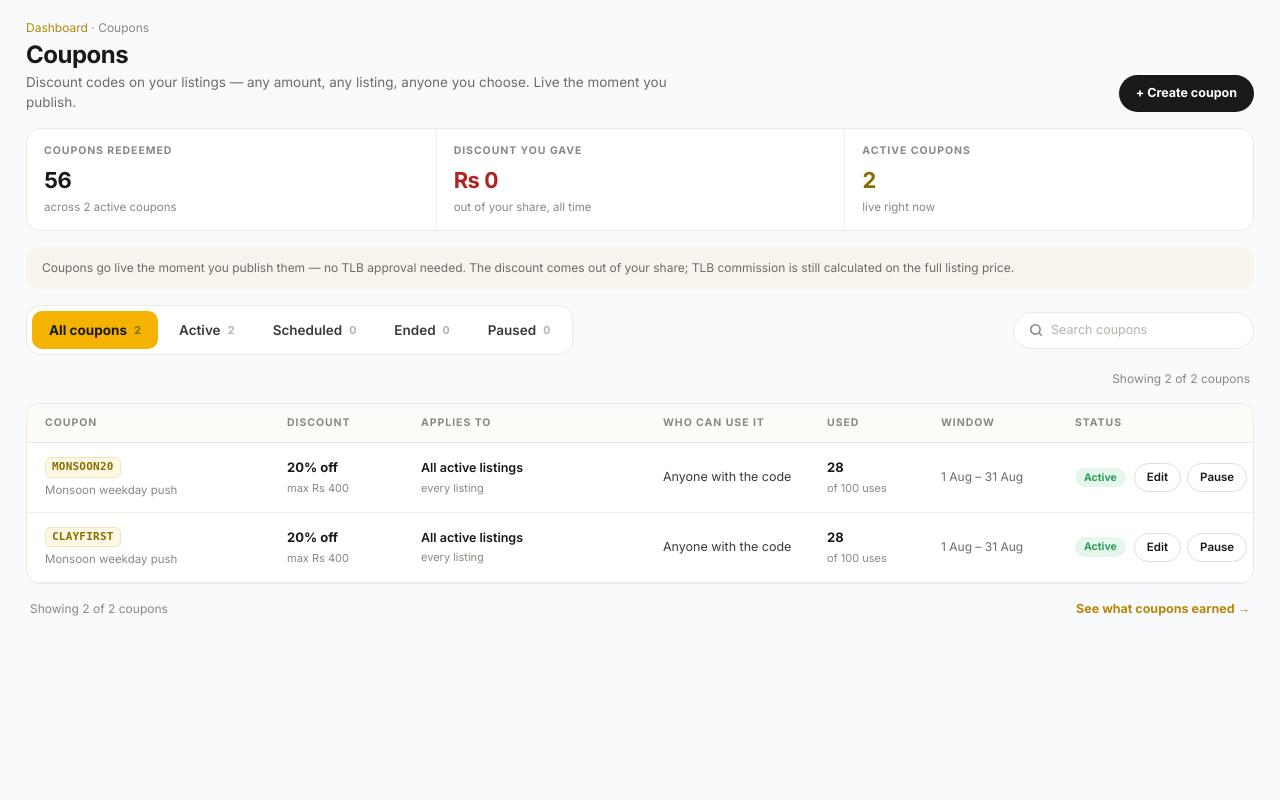
Scenario: Coupons — list display › filters coupons by search
Check: the text "MONSOON20" is shown, box [45, 457, 121, 478]
Type "CLAYFIRST" into the field with placeholder "Search coupons". click: (1144, 330)
box: [1051, 321, 1238, 340]
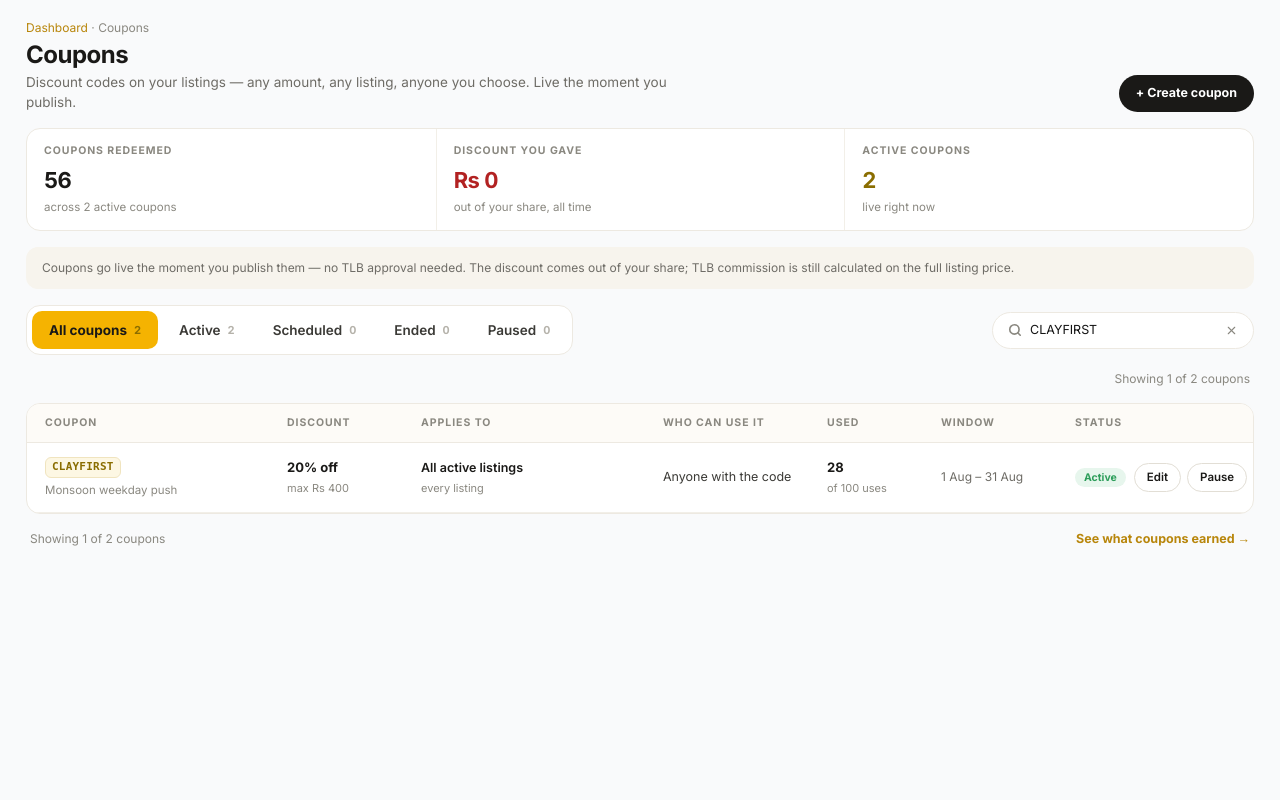
Check: the text "CLAYFIRST" is shown, box [45, 457, 121, 478]
Check: the button "MONSOON20" is gone
